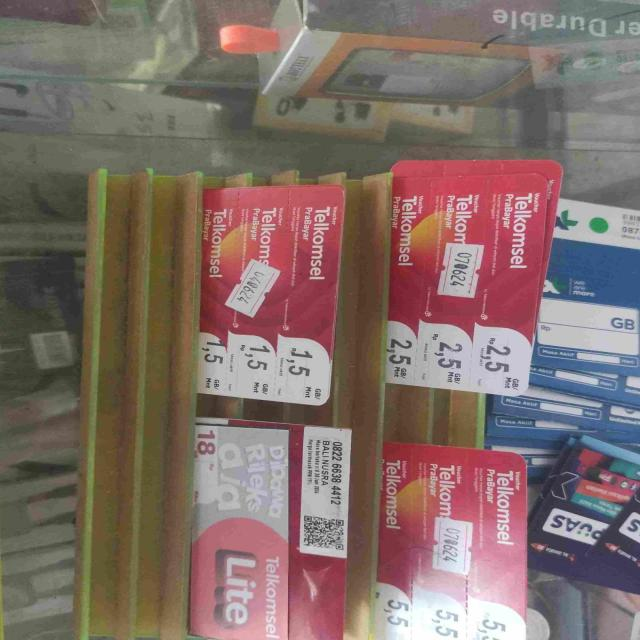Axis: (533, 444, 640, 593)
Gratis Nelpon: (552, 201, 640, 441)
Telkomsel: (389, 157, 557, 396), (196, 415, 348, 640), (379, 444, 526, 640), (203, 186, 334, 404)
